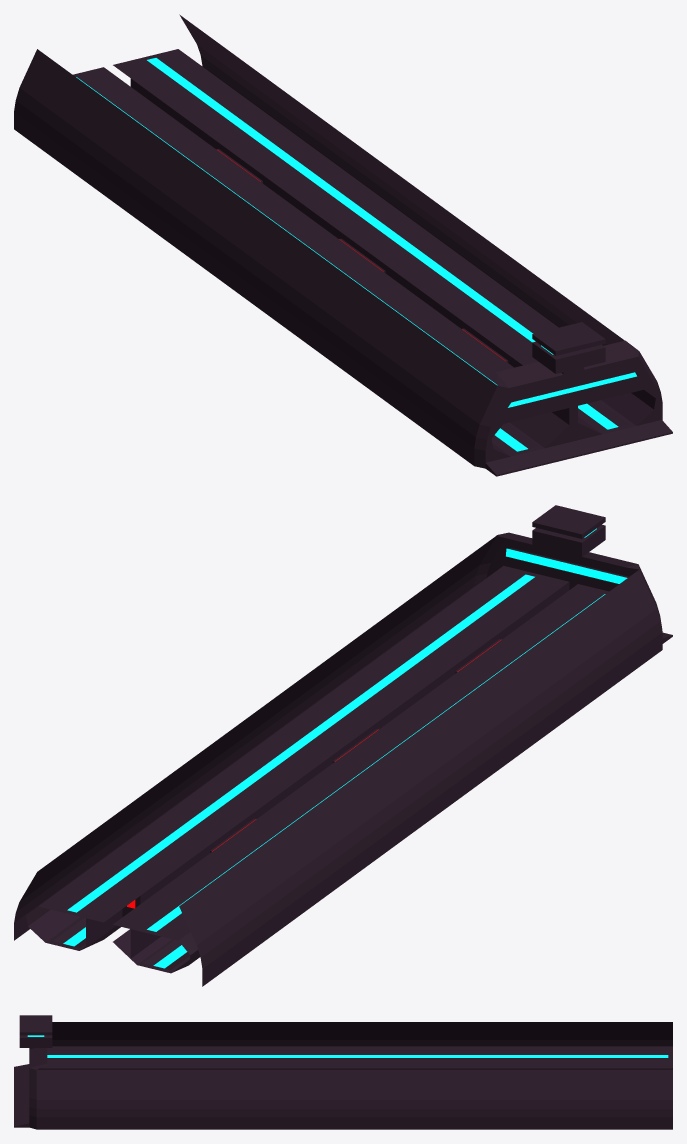
File: tunnel5.fbx
3 views of the same model, one above another, from view 1: azimuth 30°, elevation 25°; view 2: azimuth 150°, elevation 25°; view 3: azimuth 270°, elevation 25° (orthographic). The views are drawn at different scales.
Parts seen in each view (by area): view 1: Cube; view 2: Cube; view 3: Cube.
Part boxes in pixels (x1,y1,x2,y2): Cube: [14, 14, 672, 476]; Cube: [14, 505, 672, 986]; Cube: [14, 1015, 672, 1129].
Bounding box in the file's own units: 2000 × 1084 × 8762.
